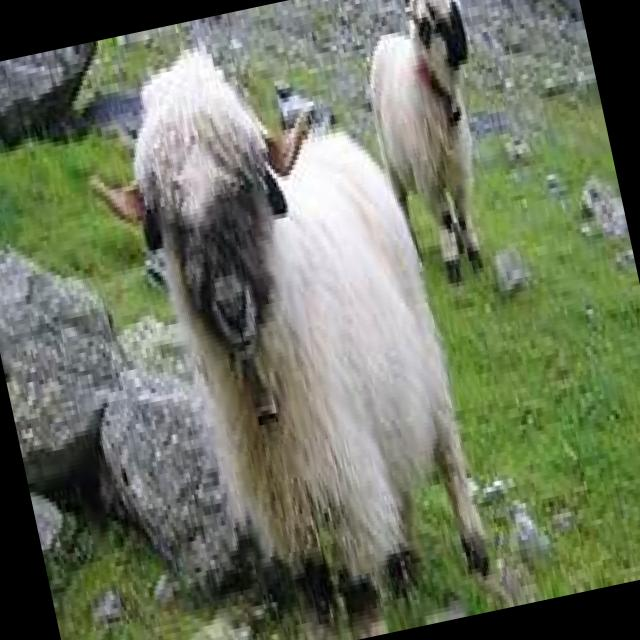sheep: (62, 9, 494, 638), (346, 0, 519, 294)
